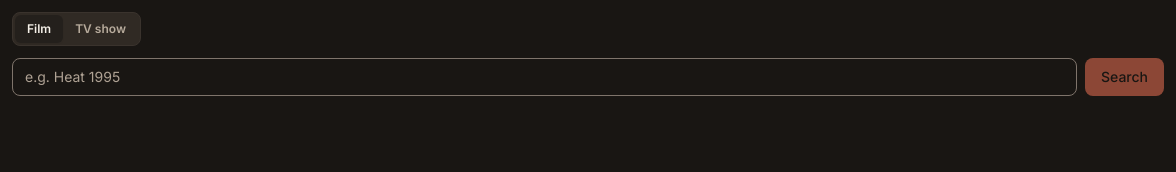
Test: CatalogSearch › says so when nothing matches
In the field named "Title": {"x": 544, "y": 77} [12,58,1077,96], type "Qzxv Plumbline Orchard"
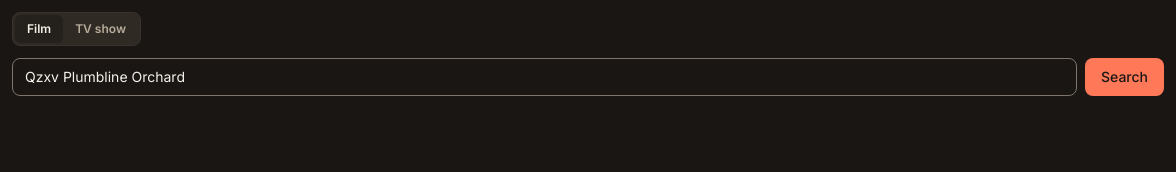
Click the button "Search": {"x": 1124, "y": 77} [1085,58,1164,96]
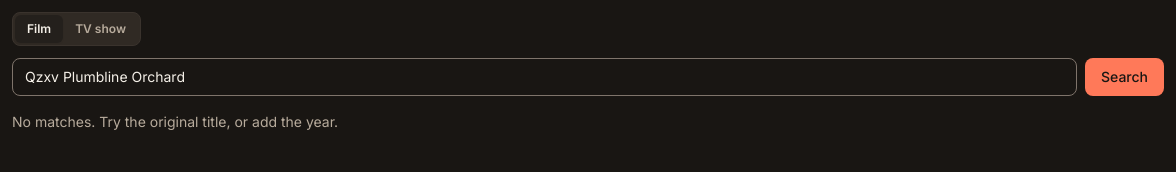
Expected: the text "No matches. Try the original title, or add the year." is shown, [12,113,338,130]
